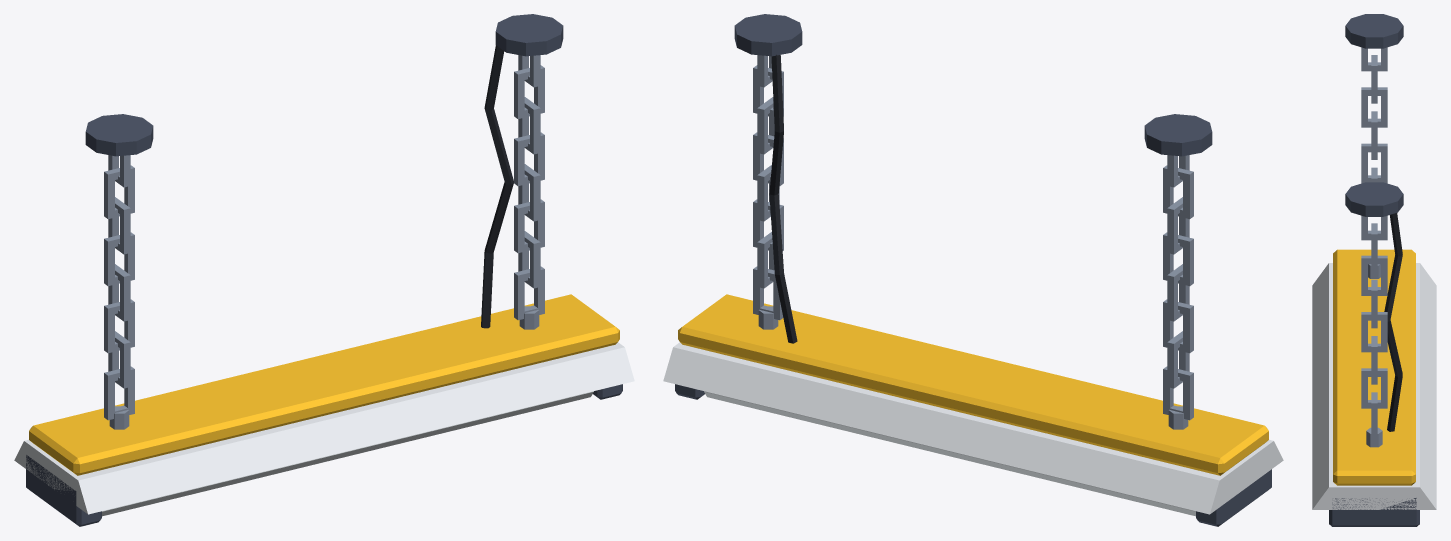
The model's file is ShopLight.fbx.
3 renders of one model, left to right at view 1: azimuth 30°, elevation 25°; view 2: azimuth 150°, elevation 25°; view 3: azimuth 270°, elevation 25°, orthographic. The views are drawn at different scales.
Visible parts, largest first — view 1: ShopLight, Neon_White; view 2: ShopLight, Neon_White; view 3: ShopLight.
Part boxes in pixels (box(x1,y1,x2,y2)): ShopLight: box(14, 14, 634, 526); Neon_White: box(102, 391, 593, 516); ShopLight: box(663, 14, 1283, 526); Neon_White: box(704, 391, 1195, 516); ShopLight: box(1312, 14, 1436, 526).
Size of the model in its own units: 6.4 by 4.12 by 1.5.
2 materials, 1 textured.
